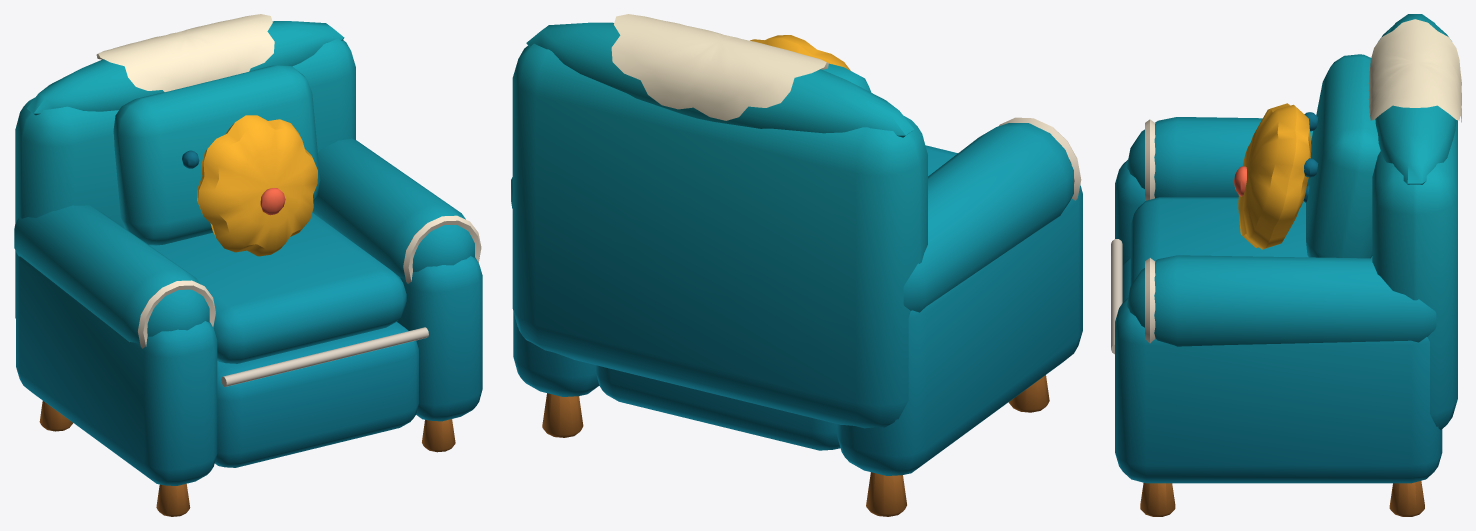
The model's file is armchair.glb.
3 views of the same model, side by side, from view 1: azimuth 30°, elevation 25°; view 2: azimuth 150°, elevation 25°; view 3: azimuth 270°, elevation 25° (orthographic). The views are drawn at different scales.
Parts seen in each view (by area): view 1: armchair; view 2: armchair; view 3: armchair.
Boxes of the visible parts, bbox=[...] form: armchair: bbox=[14, 14, 482, 516]; armchair: bbox=[511, 14, 1082, 516]; armchair: bbox=[1111, 14, 1461, 516].
Size of the model in its own units: 1.09 by 1.07 by 0.9.
